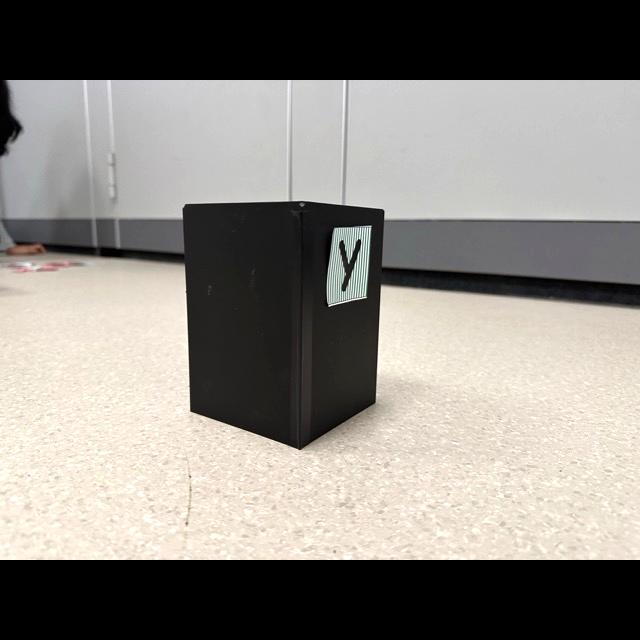Y: (340, 239, 361, 293)
